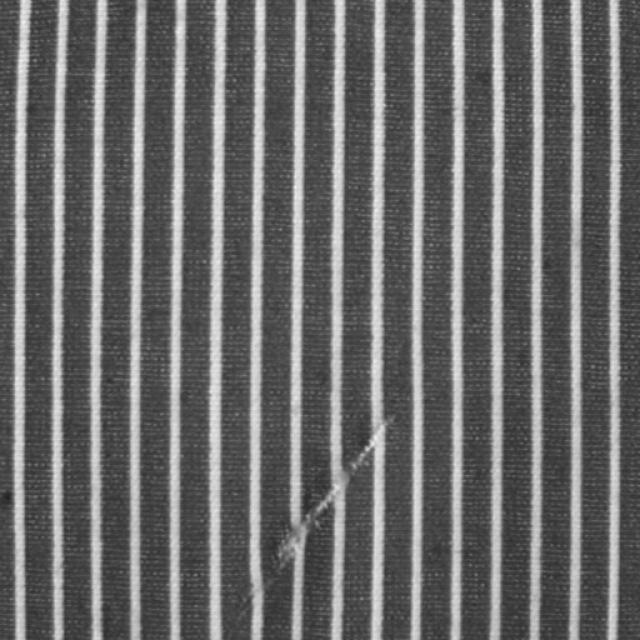Thread-Defect: (231, 419, 391, 636)
